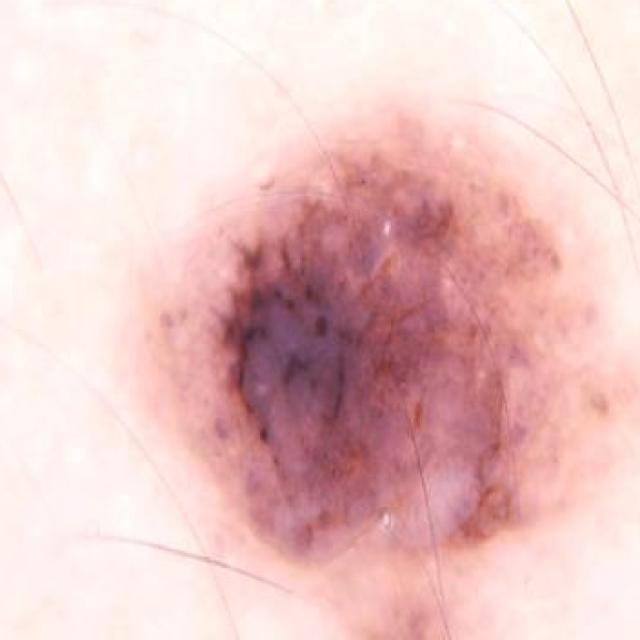NV: (96, 113, 640, 640)
